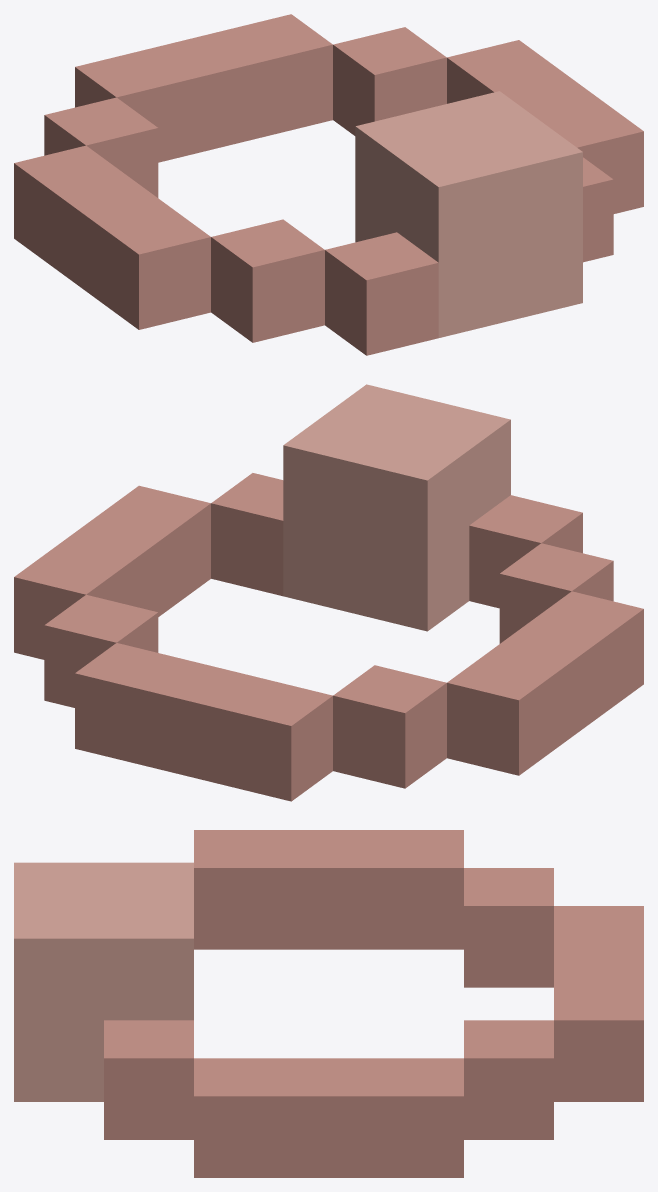
Rendered from amuleto_coral_01.glb.
3 views of the same model, one above another, from view 1: azimuth 30°, elevation 25°; view 2: azimuth 150°, elevation 25°; view 3: azimuth 270°, elevation 25° (orthographic). The views are drawn at different scales.
Visible parts, largest first — view 1: amuleto_coral; view 2: amuleto_coral; view 3: amuleto_coral.
Part boxes in pixels (left/top/right/bottom): amuleto_coral: left=14, top=14, right=643, bottom=355; amuleto_coral: left=14, top=384, right=643, bottom=801; amuleto_coral: left=14, top=830, right=643, bottom=1177.
Size of the model in its own units: 0.5833 by 0.1667 by 0.5833.
